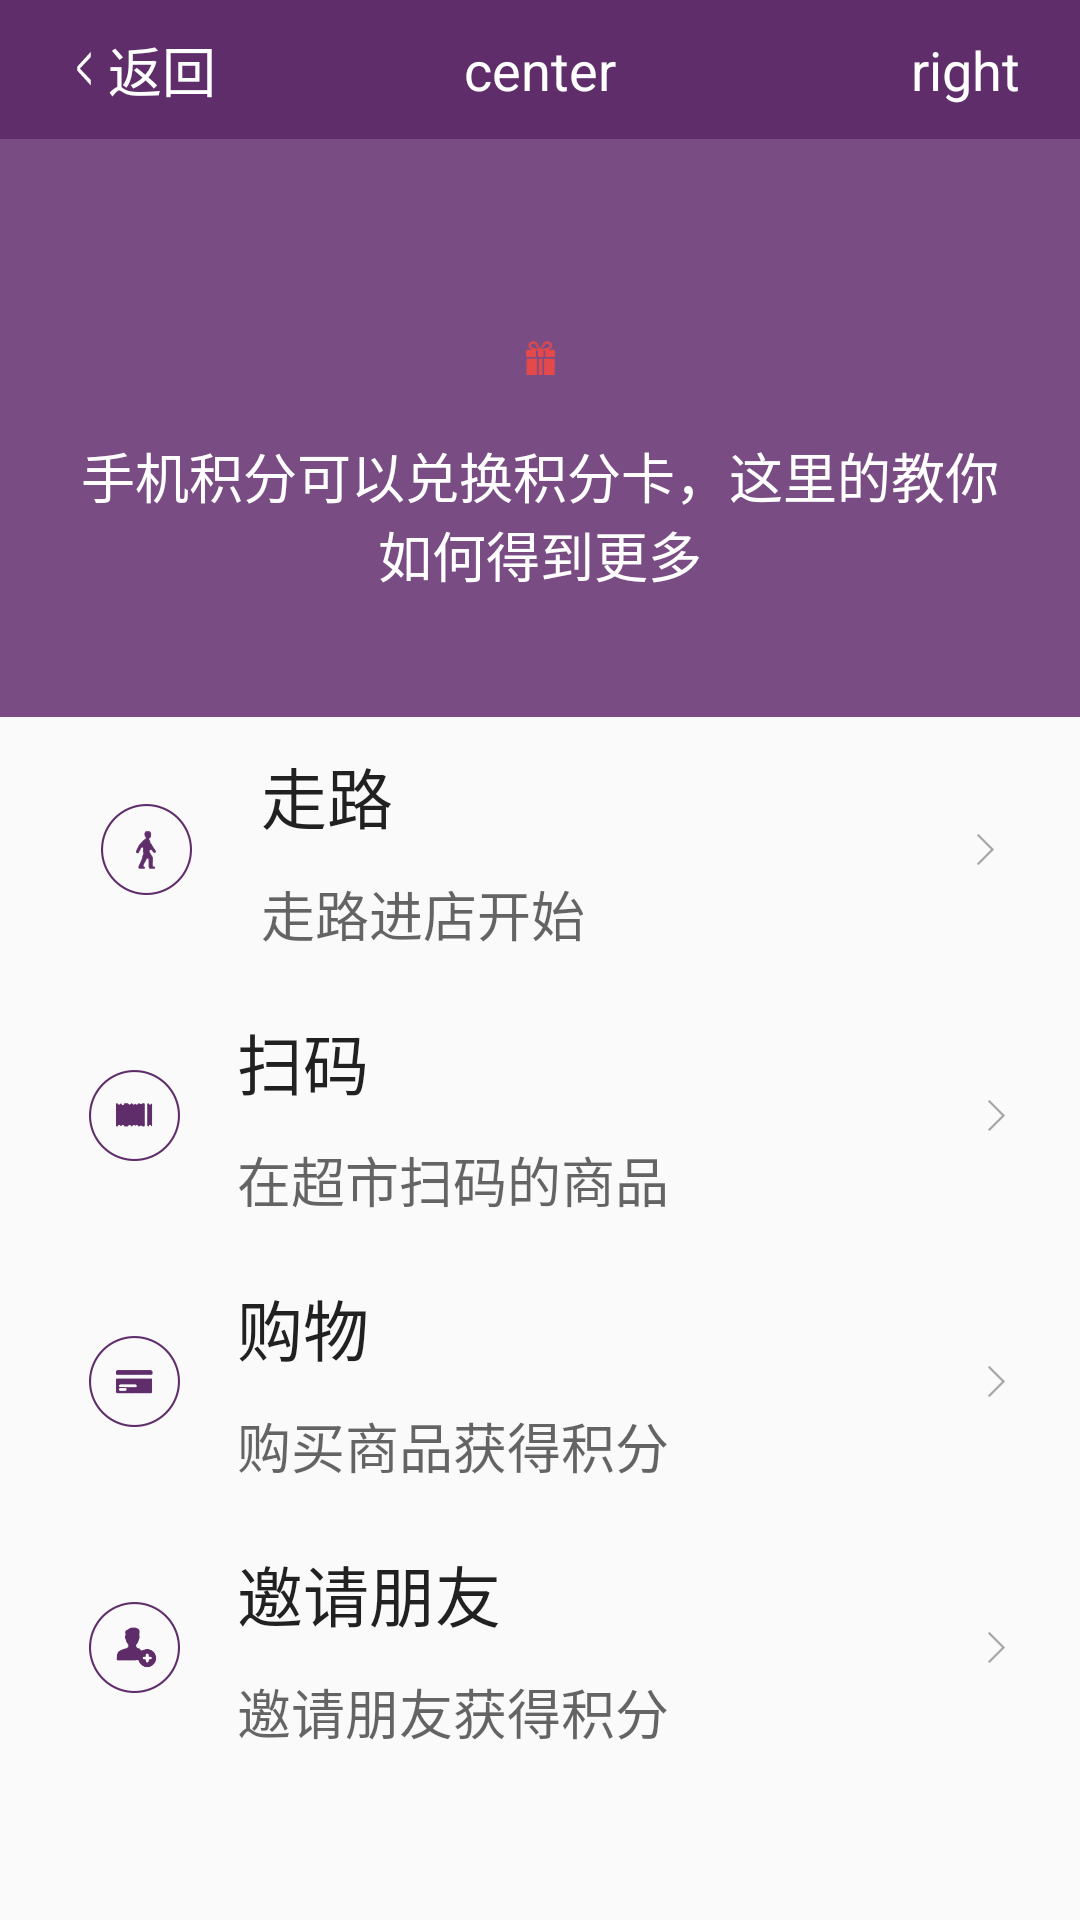

Where to tap for icons on this 1080x1920 app screen, as point (x, y):
arror right: point (985, 849), point (996, 1115), point (996, 1381), point (996, 1647)
gift: point (540, 358)
point way add person: point (134, 1647)
point way shopping: point (134, 1381)
point way walk: point (146, 849)
